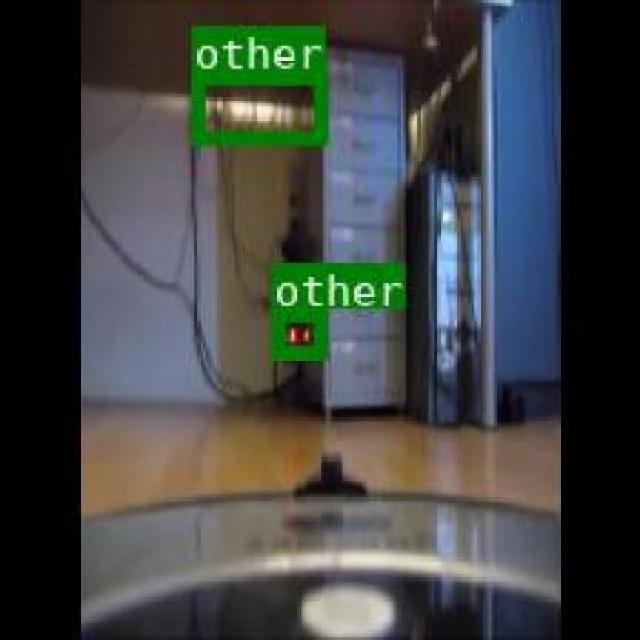other: (191, 69, 324, 142), (270, 307, 324, 355)
